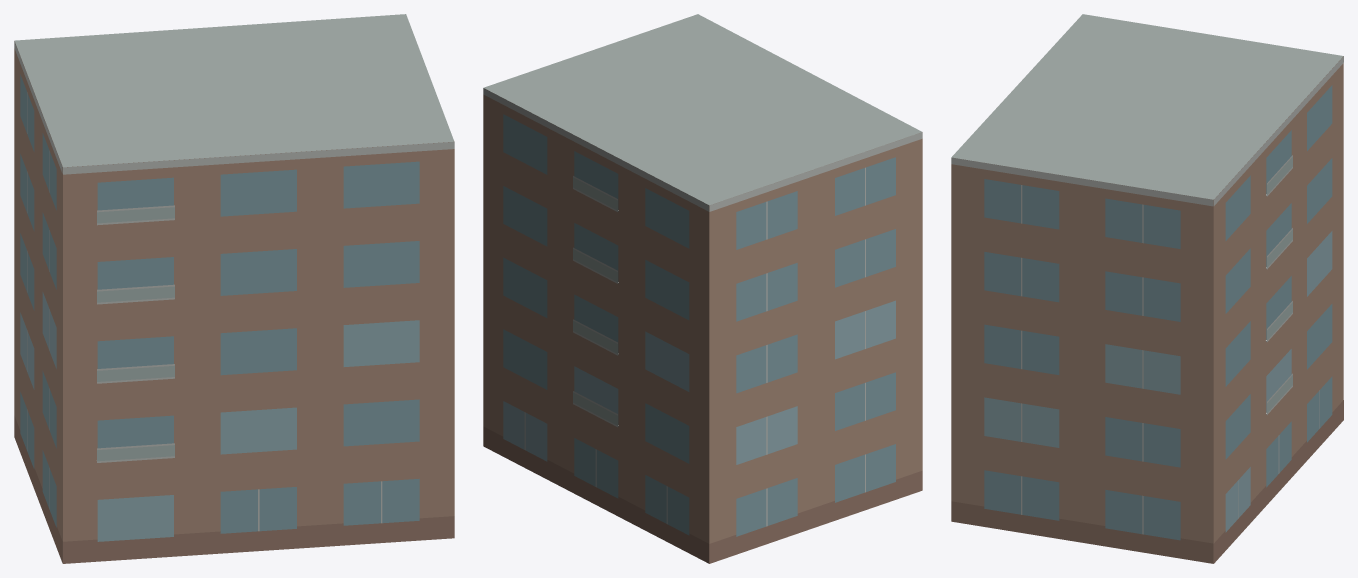
Rendered from survey-upis-32952554.glb.
The picture shows the model from 3 angles, left to right: view 1: azimuth 30°, elevation 25°; view 2: azimuth 150°, elevation 25°; view 3: azimuth 270°, elevation 25°; orthographic projection. The views are drawn at different scales.
Parts seen in each view (by area): view 1: survey-upis-32952554.tmp; view 2: survey-upis-32952554.tmp; view 3: survey-upis-32952554.tmp.
Boxes of the visible parts, bbox=[...] form: survey-upis-32952554.tmp: bbox=[14, 14, 454, 563]; survey-upis-32952554.tmp: bbox=[483, 14, 922, 563]; survey-upis-32952554.tmp: bbox=[951, 14, 1343, 563].
Size of the model in its own units: 14.45 by 13.2 by 12.91.
